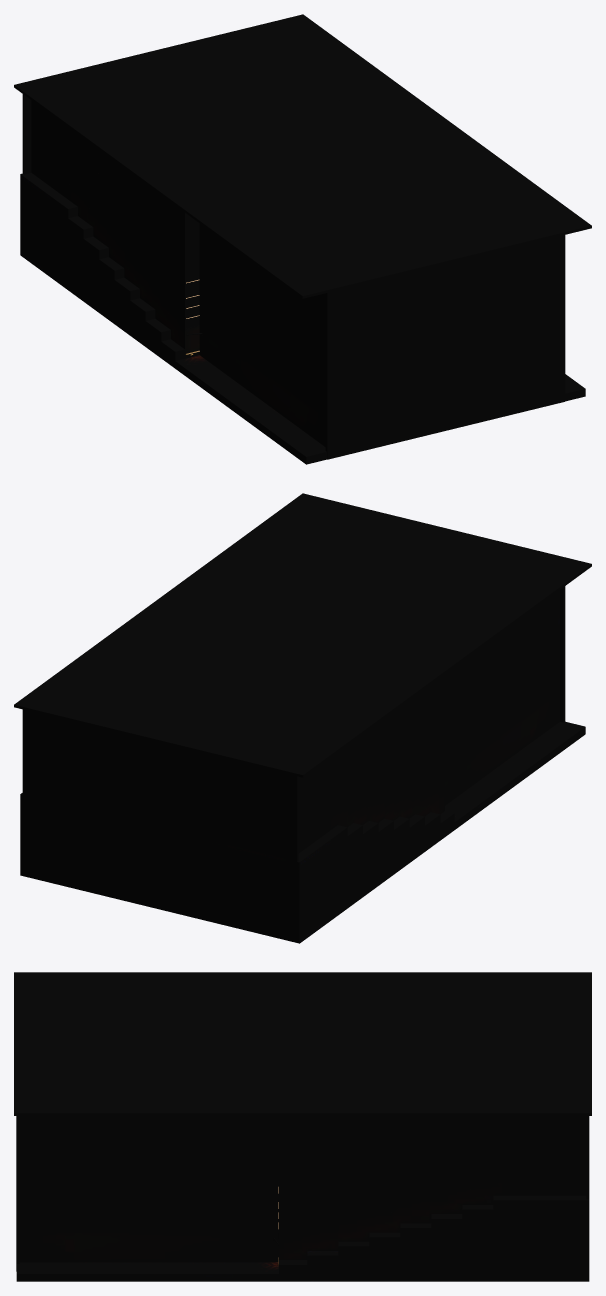
Rendered from hall2.glb.
3 views of the same model, one above another, from view 1: azimuth 30°, elevation 25°; view 2: azimuth 150°, elevation 25°; view 3: azimuth 270°, elevation 25° (orthographic).
Parts seen in each view (by area): view 1: bake_room, bake_walls, bake_floor; view 2: bake_room, bake_floor, bake_walls; view 3: bake_room, bake_walls, bake_floor.
Boxes of the visible parts, <box> form: bake_room: <box>14,14,591,459</box>; bake_walls: <box>31,100,325,446</box>; bake_floor: <box>20,172,585,464</box>; bake_room: <box>14,493,591,923</box>; bake_floor: <box>20,721,585,943</box>; bake_walls: <box>298,590,559,853</box>; bake_room: <box>14,972,591,1271</box>; bake_walls: <box>19,1116,586,1262</box>; bake_floor: <box>16,1195,589,1281</box>.
Bounding box in the file's own units: 11.85 × 6.68 × 20.5.
11 materials, 3 textured.
